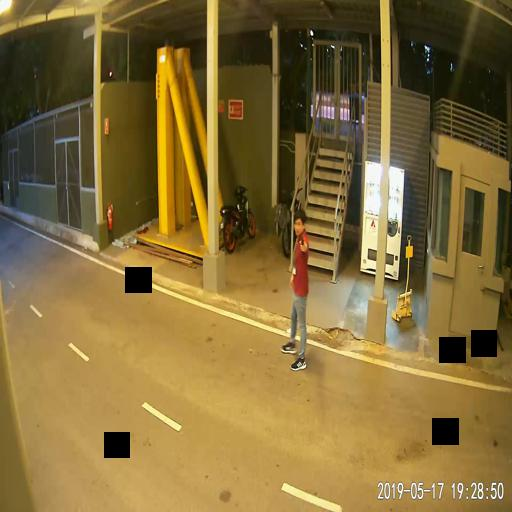Handgun: (298, 233, 304, 250)
